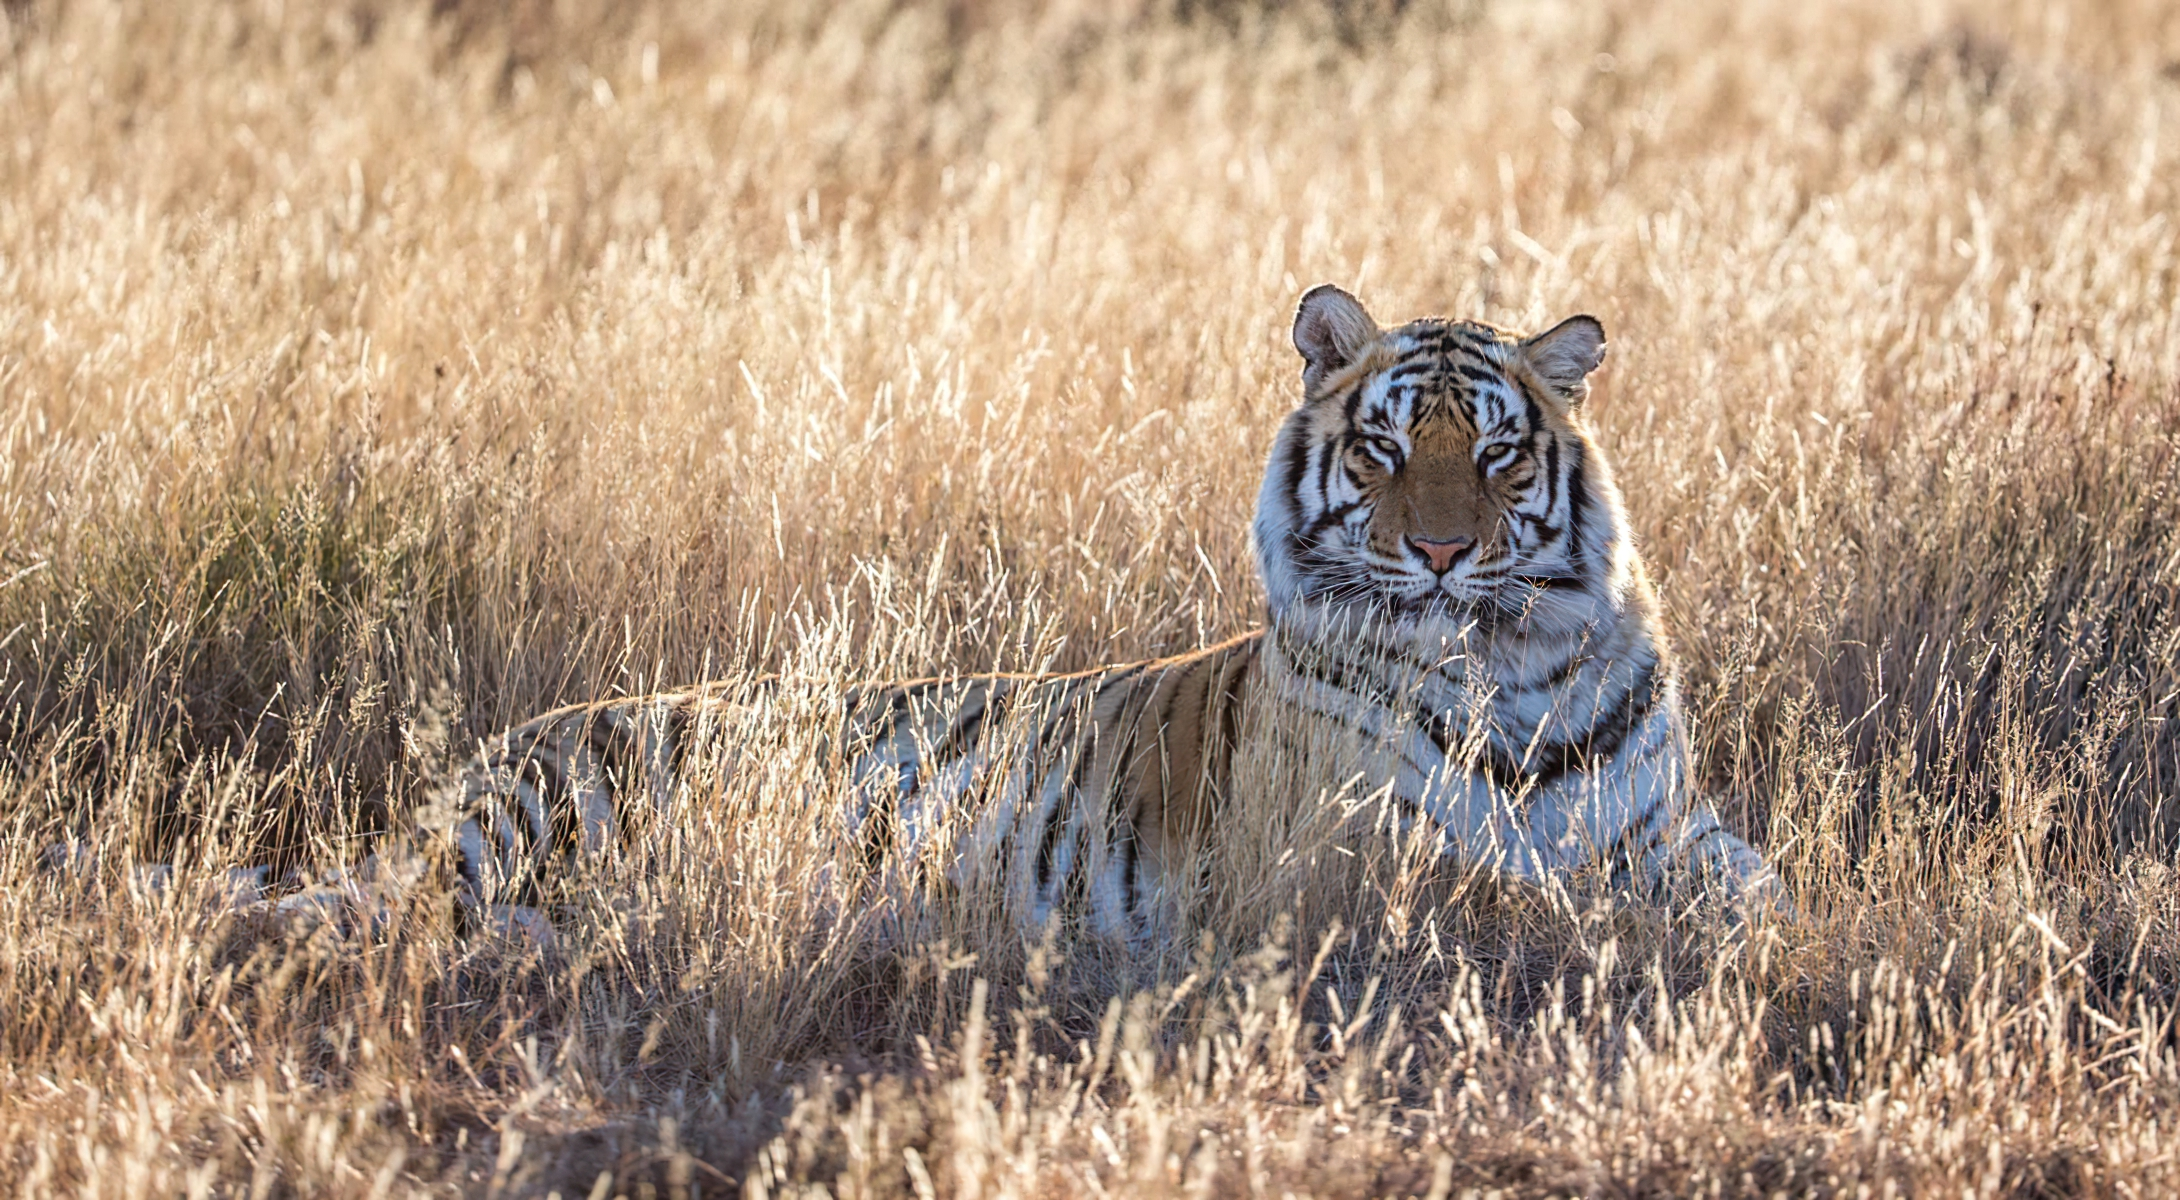tiger: (347, 284, 1806, 1032)
